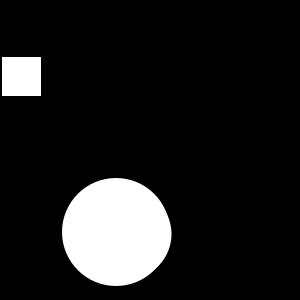circle: (2, 57, 41, 96)
rectangle: (62, 178, 170, 286), (80, 189, 172, 280)
